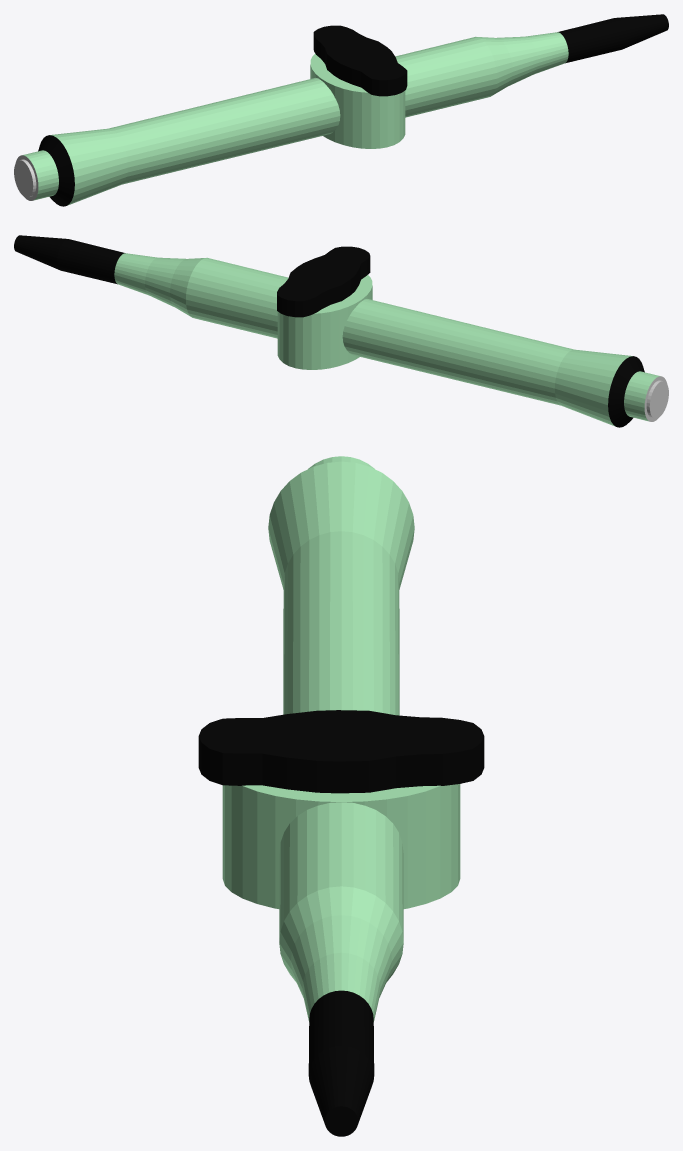
File: ez_steer.glb
The picture shows the model from 3 angles, top to bottom: view 1: azimuth 30°, elevation 25°; view 2: azimuth 150°, elevation 25°; view 3: azimuth 270°, elevation 25°; orthographic projection. The views are drawn at different scales.
Parts seen in each view (by area): view 1: Handle, CenterCylinder, Defelctor; view 2: Handle, CenterCylinder, Defelctor; view 3: Handle, Defelctor, CenterCylinder.
Part boxes in pixels (x1=…): Handle: x1=14, y1=14, x2=668, y2=206; CenterCylinder: x1=310, y1=53, x2=405, y2=148; Defelctor: x1=313, y1=25, x2=407, y2=96; Handle: x1=14, y1=235, x2=668, y2=427; CenterCylinder: x1=277, y1=275, x2=372, y2=369; Defelctor: x1=277, y1=246, x2=370, y2=317; Handle: x1=268, y1=456, x2=414, y2=1136; Defelctor: x1=198, y1=710, x2=484, y2=793; CenterCylinder: x1=222, y1=784, x2=460, y2=908.
Bounding box in the file's own units: 0.3355 × 0.0386 × 0.0647.
